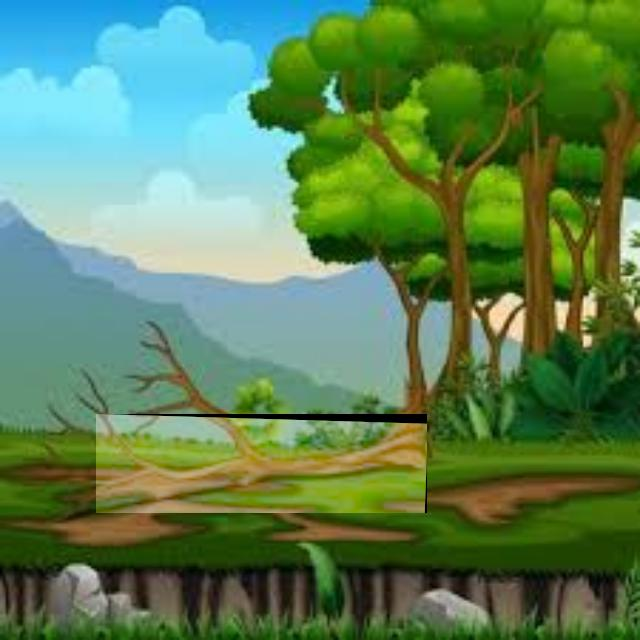Fallen Tree: (96, 414, 428, 514)
